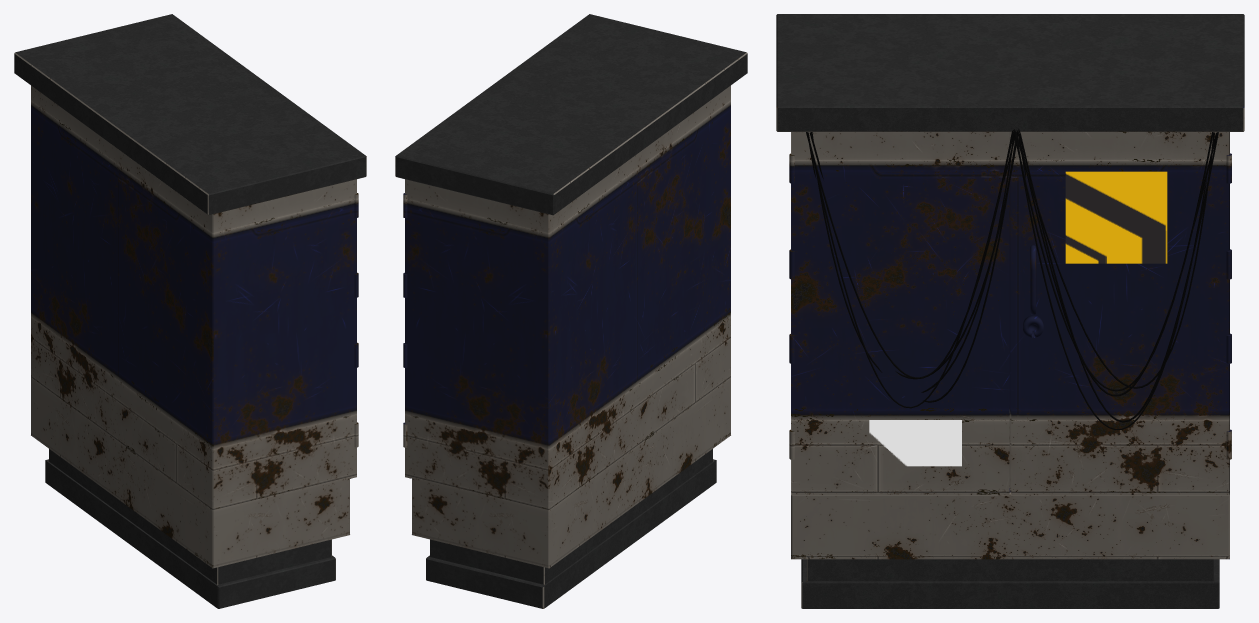
Rendered from Electrical_Box_1.glb.
3 renders of one model, left to right at view 1: azimuth 30°, elevation 25°; view 2: azimuth 150°, elevation 25°; view 3: azimuth 270°, elevation 25°, orthographic. The views are drawn at different scales.
Parts seen in each view (by area): view 1: Electrical_Box_1.001; view 2: Electrical_Box_1.001; view 3: Electrical_Box_1.001.
Part boxes in pixels (x1,y1,x2,y2): Electrical_Box_1.001: [14, 14, 366, 608]; Electrical_Box_1.001: [395, 14, 747, 608]; Electrical_Box_1.001: [776, 14, 1244, 608].
Size of the model in its own units: 1.17 by 2.8 by 2.31.
5 materials, 4 textured.
